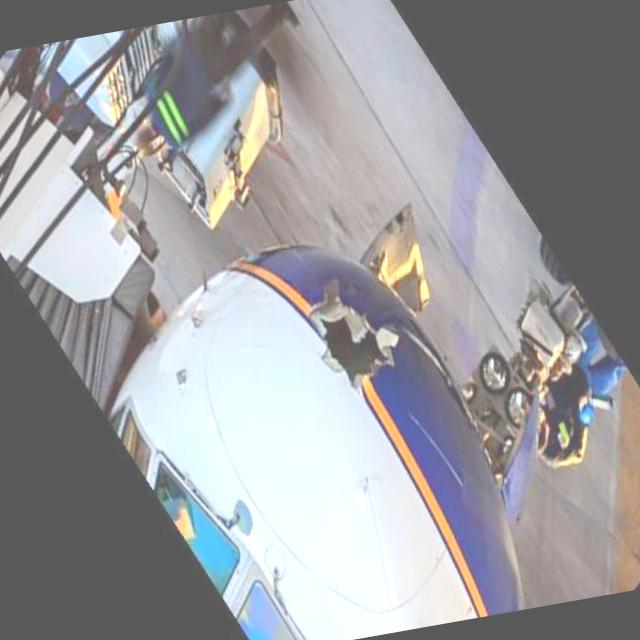crack: (298, 268, 407, 398)
